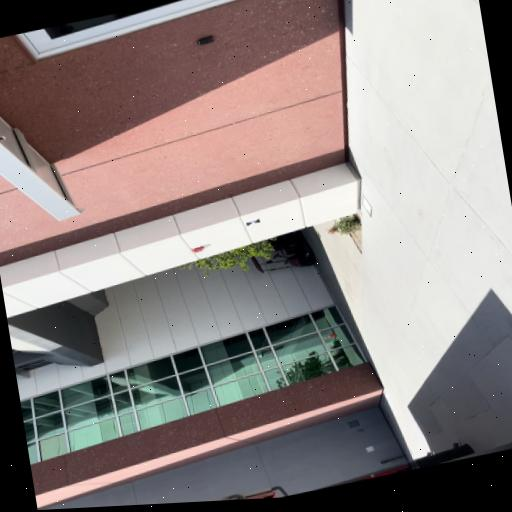target6: (245, 218, 261, 226)
